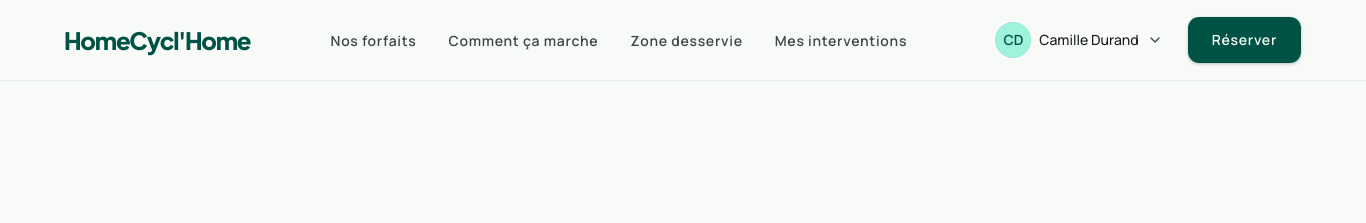
SiteHeader — session ouverte › nomme la personne connectée et porte sa déconnexion
Expected: the text "Camille Durand" is shown, x1=1039 y1=30 x2=1139 y2=50
Click the button with aria-label "Ouvrir le menu de Camille Durand" at x=1079, y=40, box x1=987 y1=16 x2=1171 y2=64
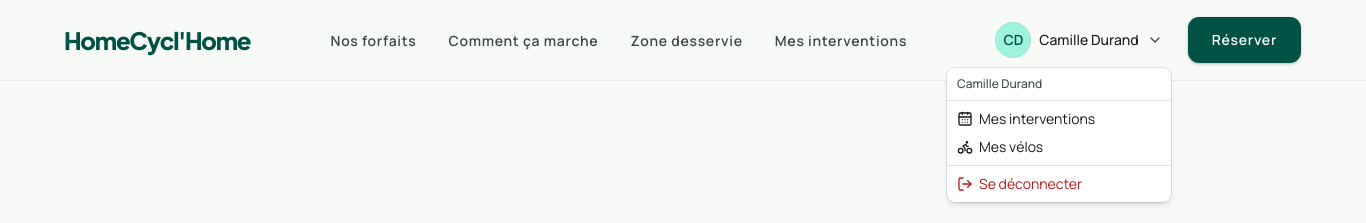
Expected: the menu item "Se déconnecter" is shown, x1=951 y1=170 x2=1167 y2=198
